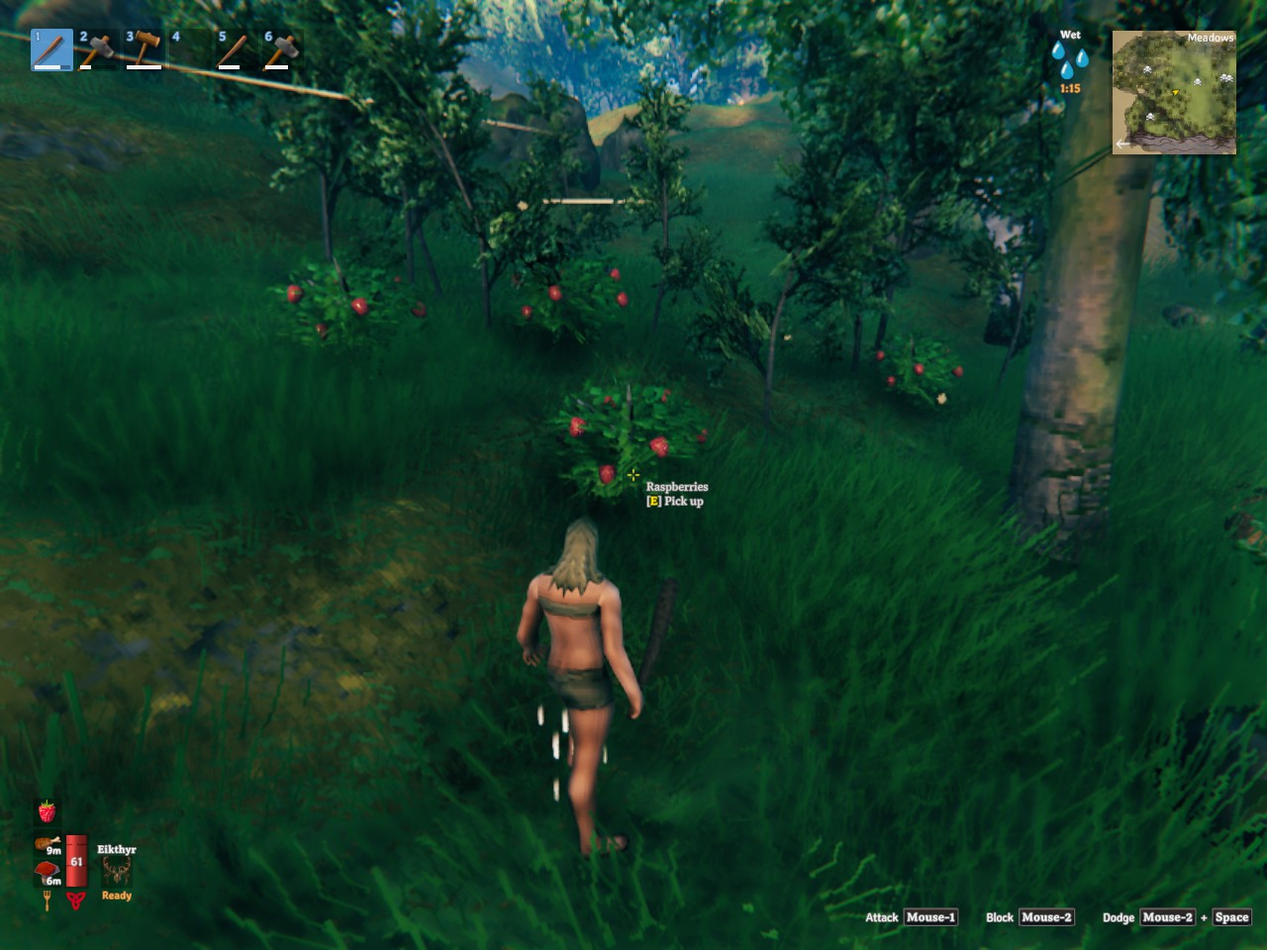Club: (637, 579, 677, 693)
Food Indicator: (36, 797, 63, 891)
Health Bar: (63, 820, 90, 891)
Hotbar: (25, 21, 398, 78)
Raspberries: (563, 390, 708, 501), (278, 273, 433, 349), (522, 268, 631, 343), (870, 343, 965, 407)
Status Indicator: (1034, 25, 1110, 96)
